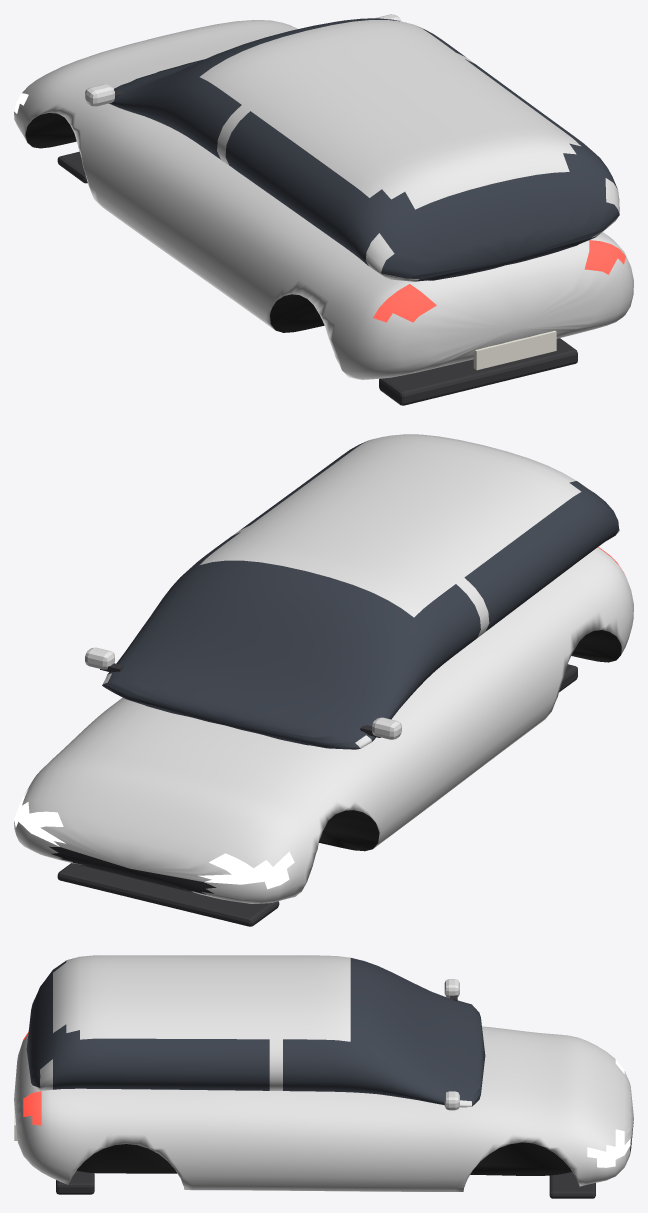
File: kestrel.glb
3 renders of one model, top to bottom at view 1: azimuth 30°, elevation 25°; view 2: azimuth 150°, elevation 25°; view 3: azimuth 270°, elevation 25°, orthographic. The views are drawn at different scales.
Parts seen in each view (by area): view 1: kestrel; view 2: kestrel; view 3: kestrel.
Part boxes in pixels (left/top/right/bottom): kestrel: left=14, top=14, right=633, bottom=405; kestrel: left=14, top=434, right=633, bottom=926; kestrel: left=14, top=955, right=633, bottom=1198.
Size of the model in its own units: 1.87 by 1.29 by 4.01.
